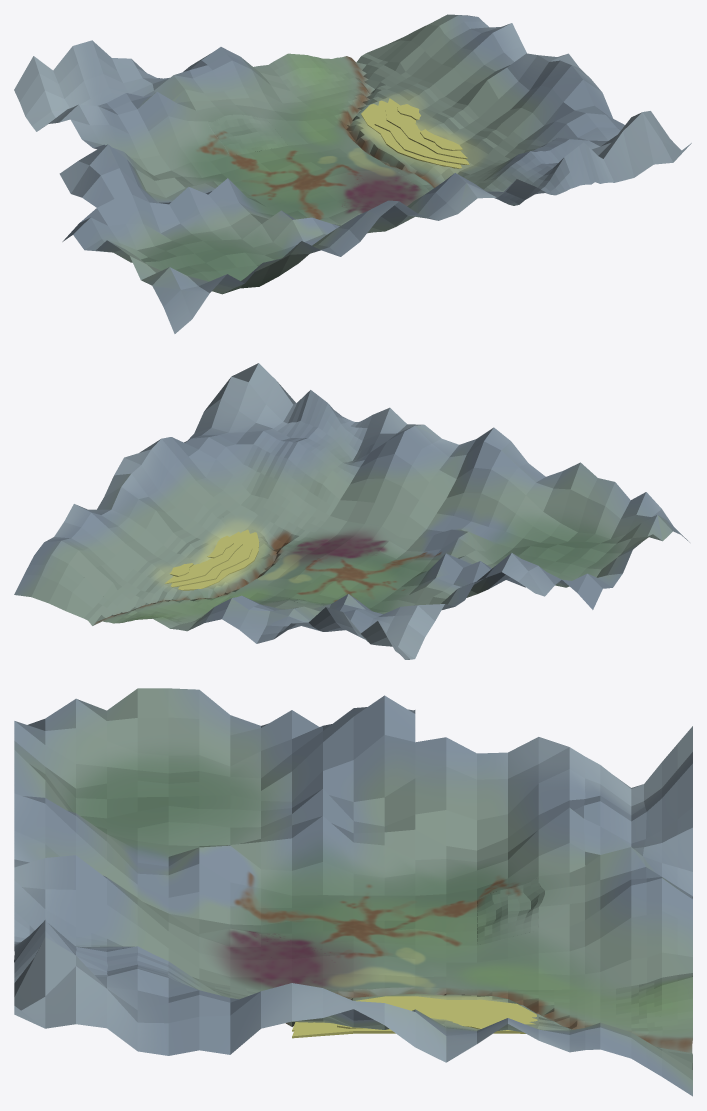
The model's file is terrain_TEMP.fbx.
3 views of the same model, one above another, from view 1: azimuth 30°, elevation 25°; view 2: azimuth 150°, elevation 25°; view 3: azimuth 270°, elevation 25° (orthographic). The views are drawn at different scales.
Visible parts, largest first — view 1: retop.002, rice layer 2, rice layer 3, rice layer 1, rice layer 4; view 2: retop.002, rice layer 2, rice layer 3, rice layer 1, rice layer 4; view 3: retop.002, rice layer 3, rice layer 2, rice layer 1.
Boxes of the visible parts, x1,y1,x2,y2 form: retop.002: (14,14,691,333); rice layer 2: (374,100,469,164); rice layer 3: (385,98,467,158); rice layer 1: (361,104,461,168); rice layer 4: (397,104,462,150); retop.002: (14,363,689,659); rice layer 2: (170,529,252,587); rice layer 3: (165,531,242,583); rice layer 1: (178,532,259,590); rice layer 4: (169,535,233,576); retop.002: (14,688,692,1096); rice layer 3: (292,1007,535,1037); rice layer 2: (292,999,537,1038); rice layer 1: (292,996,536,1031).
Bounding box in the file's own units: 1204 × 267 × 1001.
Materials: 2 (1 with a texture image).
